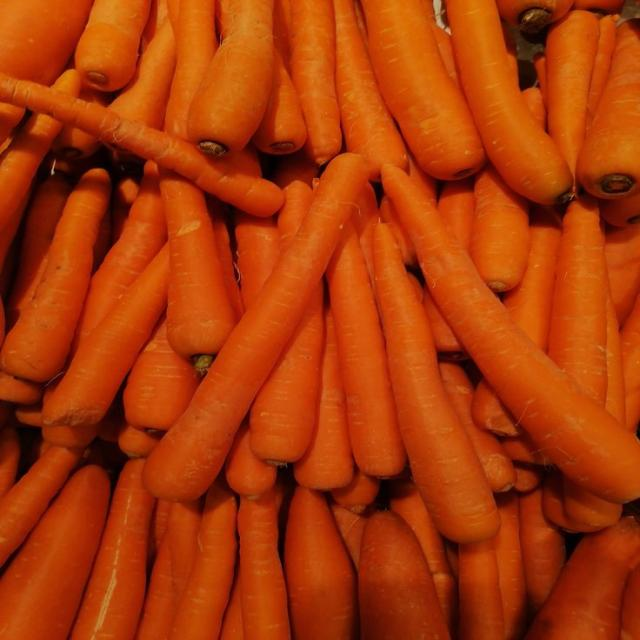carrot: (383, 166, 639, 502), (145, 154, 366, 499), (0, 74, 282, 215), (374, 224, 499, 542), (447, 0, 573, 203), (0, 169, 111, 382), (43, 246, 168, 426), (362, 0, 486, 179), (326, 222, 406, 476), (0, 465, 110, 639), (72, 162, 166, 352), (160, 170, 235, 371), (70, 460, 154, 639), (526, 517, 639, 639), (249, 282, 324, 465), (187, 0, 273, 155), (334, 0, 406, 180), (548, 196, 607, 405), (358, 511, 450, 639), (284, 486, 358, 639), (577, 19, 639, 198), (294, 306, 354, 490), (388, 479, 458, 635), (170, 483, 237, 639), (5, 174, 72, 327), (439, 360, 516, 492), (0, 447, 84, 565), (122, 317, 199, 431), (546, 9, 599, 174), (289, 0, 342, 165), (502, 205, 561, 350), (502, 205, 560, 350), (238, 490, 291, 639), (0, 114, 61, 243), (0, 0, 92, 84), (469, 164, 529, 292), (165, 0, 218, 138), (108, 20, 175, 129), (74, 0, 150, 91), (519, 487, 566, 620), (251, 47, 306, 154), (458, 539, 506, 639), (494, 490, 526, 639), (359, 195, 417, 274), (207, 197, 244, 320), (234, 212, 279, 309), (133, 536, 175, 639), (225, 421, 277, 497), (166, 499, 203, 604), (542, 468, 601, 533), (587, 16, 618, 129), (605, 226, 639, 325), (422, 288, 468, 361), (605, 290, 626, 424), (437, 177, 476, 249), (472, 379, 521, 436), (437, 177, 475, 249), (620, 297, 639, 431), (496, 0, 573, 33), (110, 175, 141, 244), (331, 470, 380, 513), (270, 148, 319, 188), (51, 125, 102, 161), (431, 21, 459, 86), (500, 432, 552, 466), (118, 423, 163, 458), (220, 571, 243, 639), (0, 425, 21, 498), (0, 371, 44, 405), (620, 564, 639, 639), (149, 501, 171, 561), (600, 194, 639, 227), (521, 86, 546, 130), (514, 461, 544, 492), (532, 51, 547, 107), (572, 0, 624, 16)
